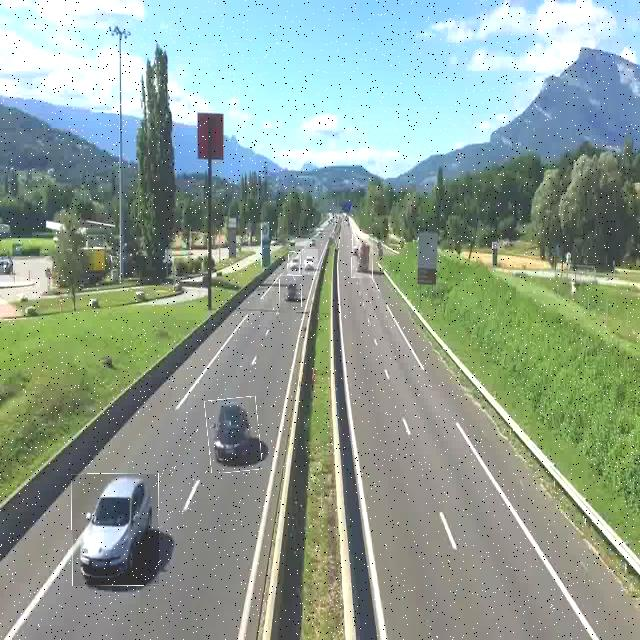Car: (72, 474, 159, 586), (206, 397, 261, 472), (280, 275, 302, 310), (302, 249, 318, 275), (288, 252, 301, 275)
Truck: (352, 234, 373, 278)
